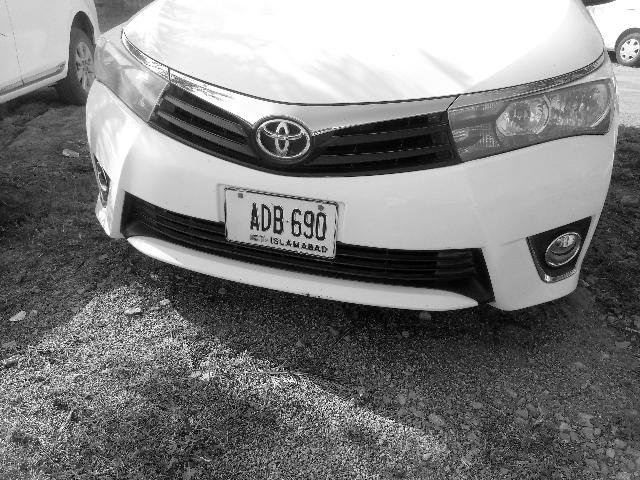Number: (247, 198, 330, 245)
